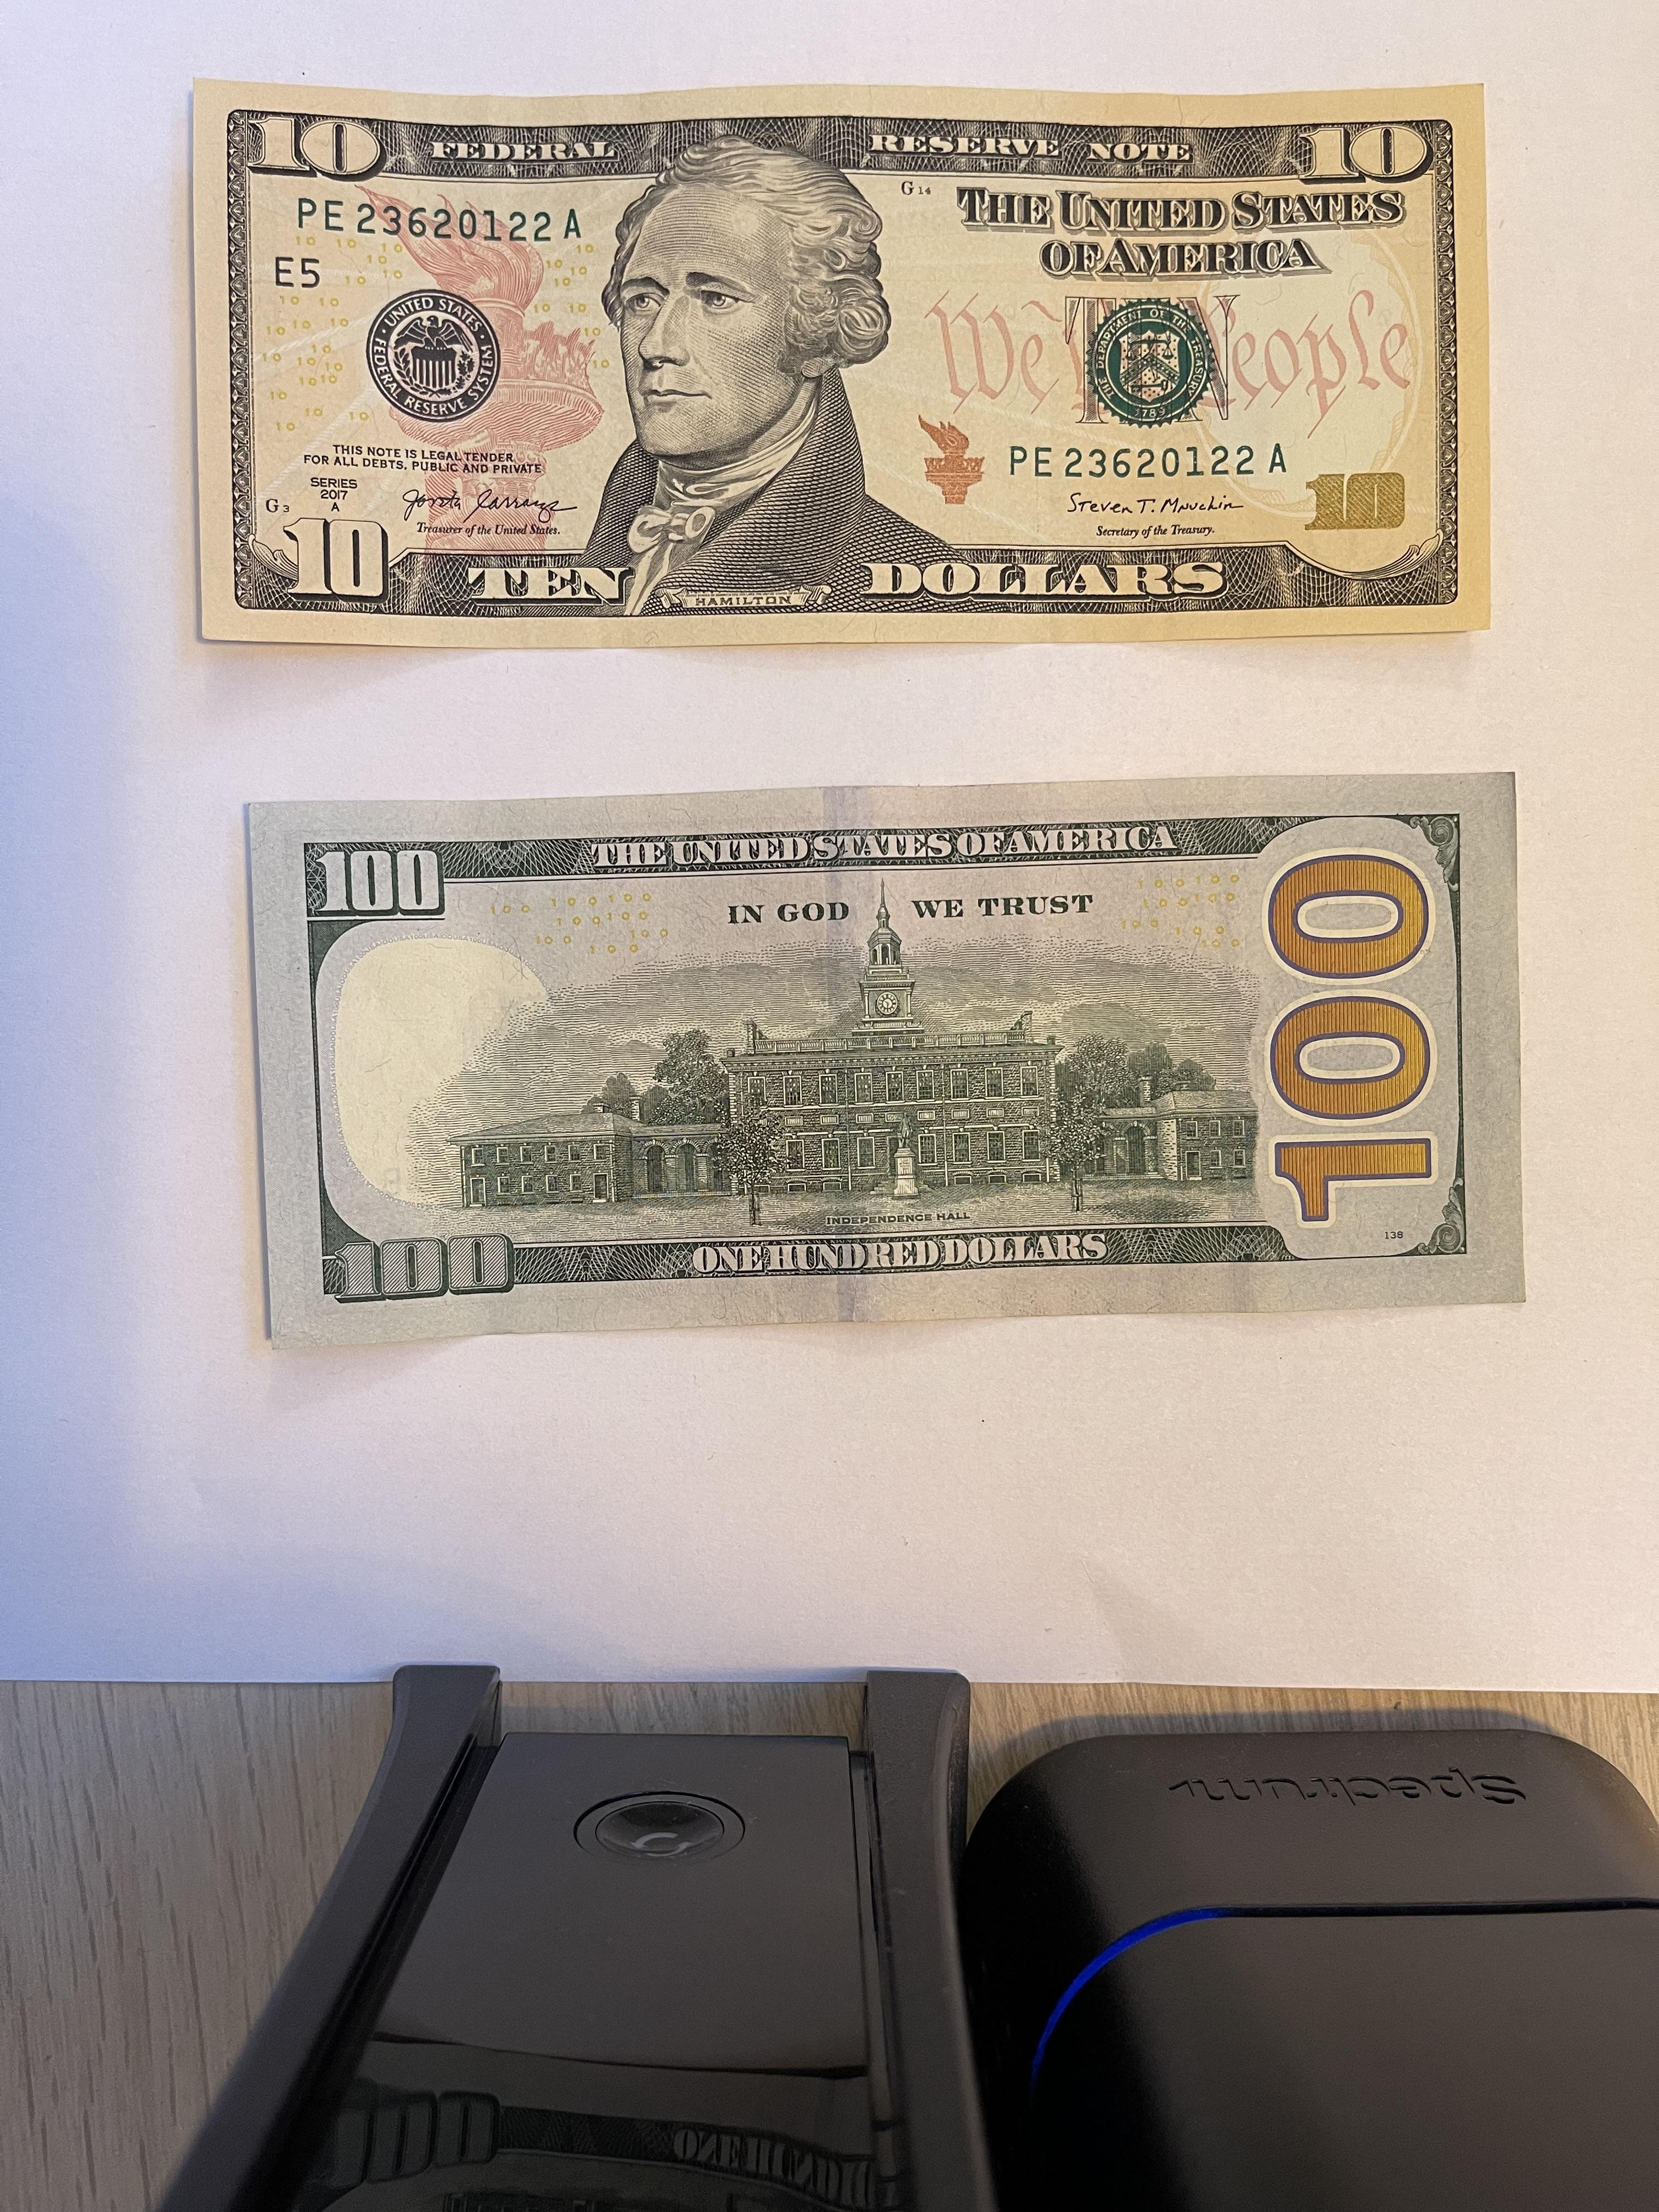HundredBill: (240, 766, 1530, 1353)
TenBill: (186, 71, 1495, 653)
